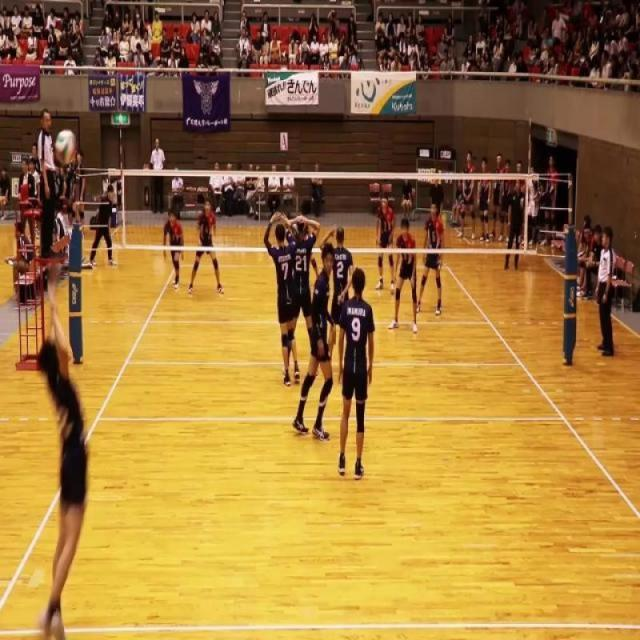volleyball: (54, 127, 76, 165)
